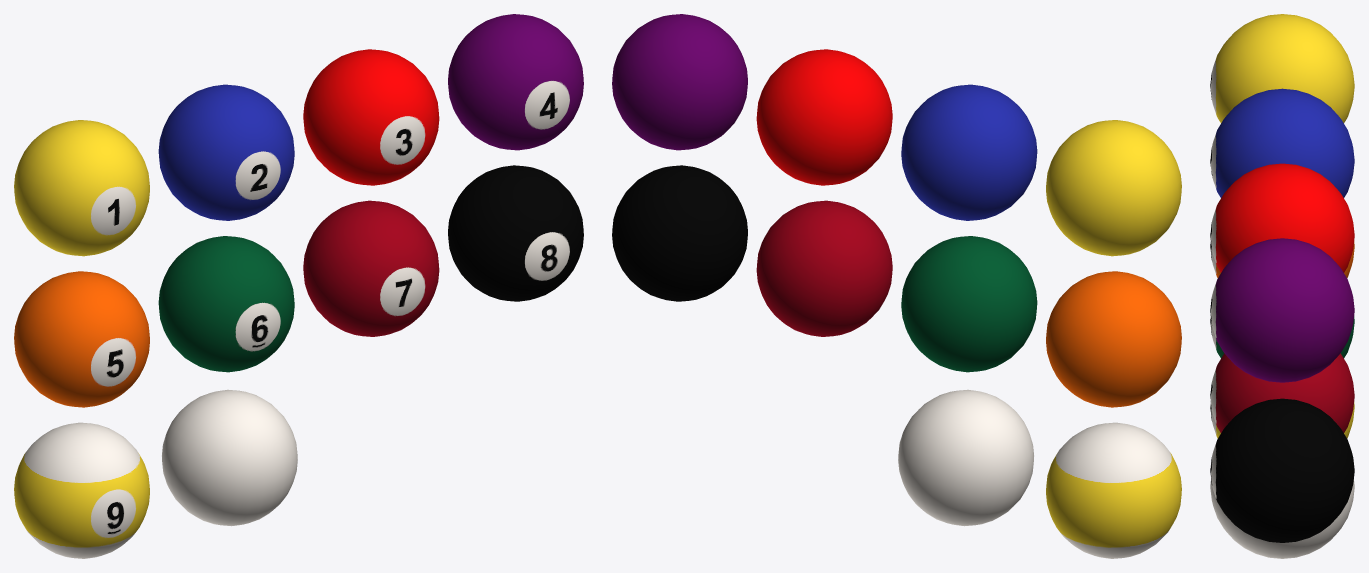
The picture shows the model from 3 angles, left to right: view 1: azimuth 30°, elevation 25°; view 2: azimuth 150°, elevation 25°; view 3: azimuth 270°, elevation 25°; orthographic projection. The views are drawn at different scales.
Parts seen in each view (by area): view 1: model_4:Mesh, model_17:Mesh, model_7:Mesh, model_21:Mesh, model_5:Mesh, model_6:Mesh, model_3:Mesh, model_15:Mesh, model_16:Mesh, model_8:Mesh; view 2: model_4:Mesh, model_17:Mesh, model_7:Mesh, model_21:Mesh, model_5:Mesh, model_6:Mesh, model_3:Mesh, model_15:Mesh, model_16:Mesh, model_8:Mesh; view 3: model_16:Mesh, model_7:Mesh, model_21:Mesh, model_4:Mesh, model_3:Mesh, model_6:Mesh, model_15:Mesh, model_5:Mesh, model_8:Mesh, model_17:Mesh.
Boxes of the visible parts, x1,y1,x2,y2 form: model_4:Mesh: (158, 84, 294, 220); model_17:Mesh: (14, 271, 149, 407); model_7:Mesh: (448, 165, 583, 301); model_21:Mesh: (303, 49, 439, 185); model_5:Mesh: (158, 236, 294, 372); model_6:Mesh: (303, 200, 439, 336); model_3:Mesh: (14, 120, 149, 256); model_15:Mesh: (162, 389, 297, 526); model_16:Mesh: (448, 14, 583, 150); model_8:Mesh: (14, 422, 149, 558); model_4:Mesh: (901, 84, 1037, 220); model_17:Mesh: (1046, 271, 1181, 407); model_7:Mesh: (612, 165, 747, 301); model_21:Mesh: (756, 49, 892, 185); model_5:Mesh: (901, 236, 1037, 372); model_6:Mesh: (756, 200, 892, 336); model_3:Mesh: (1046, 120, 1181, 256); model_15:Mesh: (898, 389, 1033, 526); model_16:Mesh: (612, 14, 747, 150); model_8:Mesh: (1046, 422, 1181, 558); model_16:Mesh: (1210, 238, 1354, 382); model_7:Mesh: (1210, 398, 1354, 542); model_21:Mesh: (1210, 163, 1354, 272); model_4:Mesh: (1210, 88, 1354, 197); model_3:Mesh: (1210, 14, 1354, 122); model_6:Mesh: (1210, 353, 1354, 432); model_15:Mesh: (1210, 479, 1354, 558); model_5:Mesh: (1210, 316, 1354, 358); model_8:Mesh: (1210, 402, 1354, 438); model_17:Mesh: (1210, 241, 1354, 277).
Bounding box in the file's own units: 0.2672 × 0.1987 × 0.0572.
